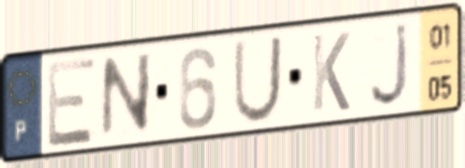6: (176, 43, 219, 133)
E: (44, 53, 99, 152)
J: (367, 18, 413, 111)
K: (309, 29, 352, 115)
N: (97, 48, 156, 144)
U: (230, 32, 286, 127)
